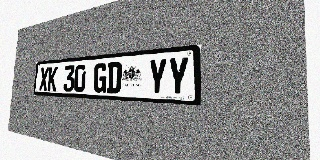0: (74, 64, 86, 92)
3: (63, 65, 75, 92)
D: (106, 61, 122, 93)
G: (93, 63, 107, 93)
K: (47, 66, 58, 91)
X: (39, 67, 49, 91)
Y: (167, 56, 189, 96), (147, 58, 167, 95)
